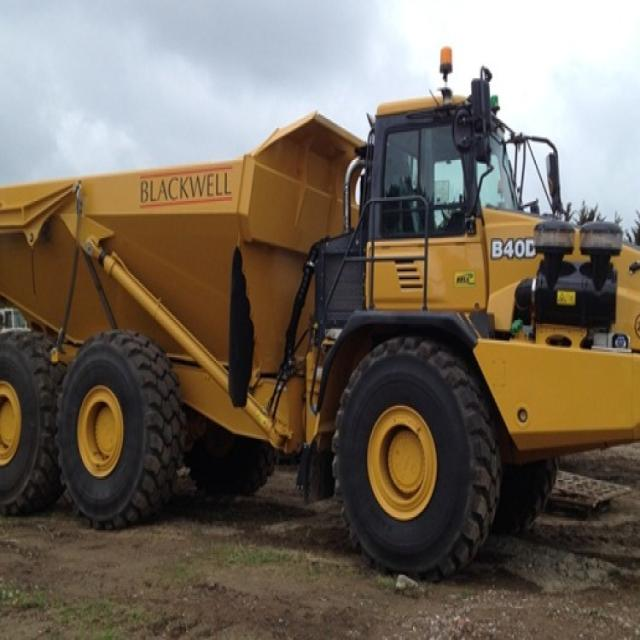dump_truck: (2, 68, 639, 596)
